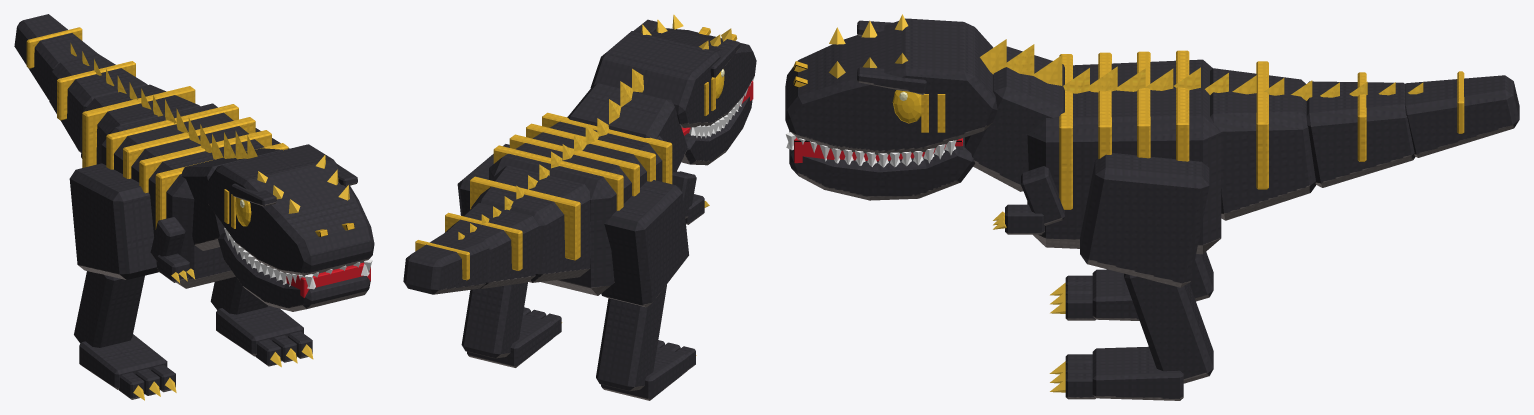
File: 19_Giganotosaurus.glb
3 views of the same model, side by side, from view 1: azimuth 30°, elevation 25°; view 2: azimuth 150°, elevation 25°; view 3: azimuth 270°, elevation 25° (orthographic). The views are drawn at different scales.
Visible parts, largest first — view 1: 19_Giganotosaurus; view 2: 19_Giganotosaurus; view 3: 19_Giganotosaurus.
Boxes of the visible parts, x1,y1,x2,y2 form: 19_Giganotosaurus: (14,14,374,400); 19_Giganotosaurus: (403,14,756,400); 19_Giganotosaurus: (785,14,1519,400).
Size of the model in its own units: 6.6 by 8.83 by 18.65.
1 material, 1 textured.
